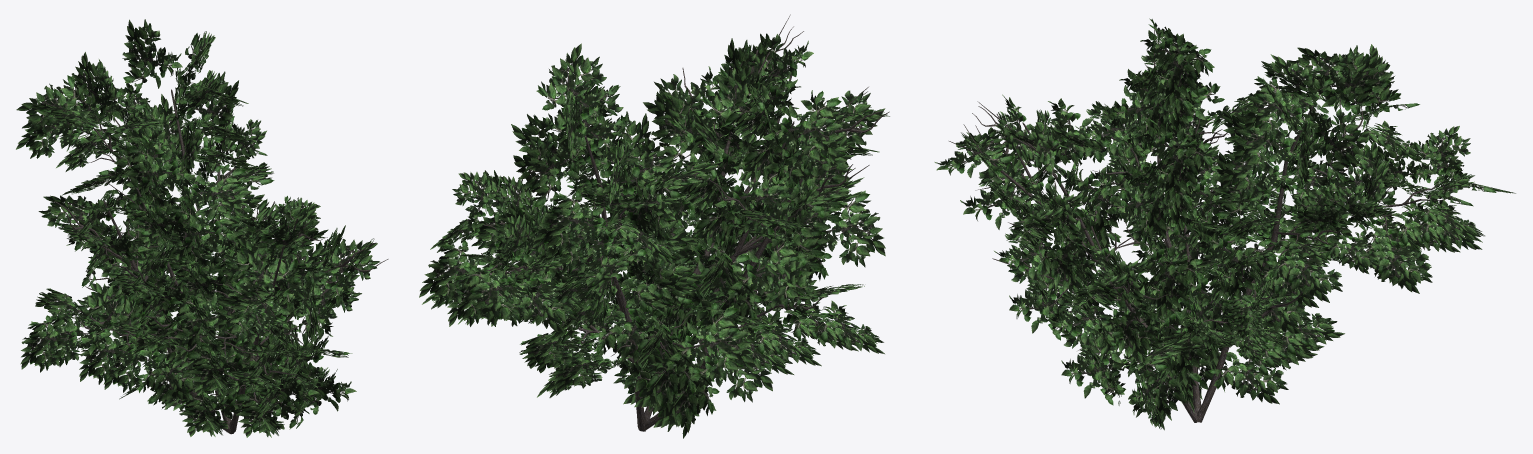
Rendered from shrub_hazel_01.DAE.
3 views of the same model, side by side, from view 1: azimuth 30°, elevation 25°; view 2: azimuth 150°, elevation 25°; view 3: azimuth 270°, elevation 25° (orthographic). The views are drawn at different scales.
Visible parts, largest first — view 1: Object169, shrub_hazel01_CommonHazelBark; view 2: Object169, shrub_hazel01_CommonHazelBark; view 3: Object169, shrub_hazel01_CommonHazelBark.
Part boxes in pixels (<box>): Object169: <box>16,19,379,437</box>; shrub_hazel01_CommonHazelBark: <box>54,89,388,434</box>; Object169: <box>419,33,889,438</box>; shrub_hazel01_CommonHazelBark: <box>481,14,889,431</box>; Object169: <box>934,18,1515,430</box>; shrub_hazel01_CommonHazelBark: <box>949,29,1449,422</box>.
Bounding box in the file's own units: 1.95 × 2.07 × 2.89.
